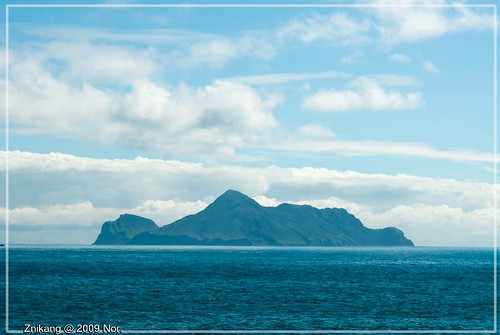turtleIslandLeft: (92, 187, 415, 249)
